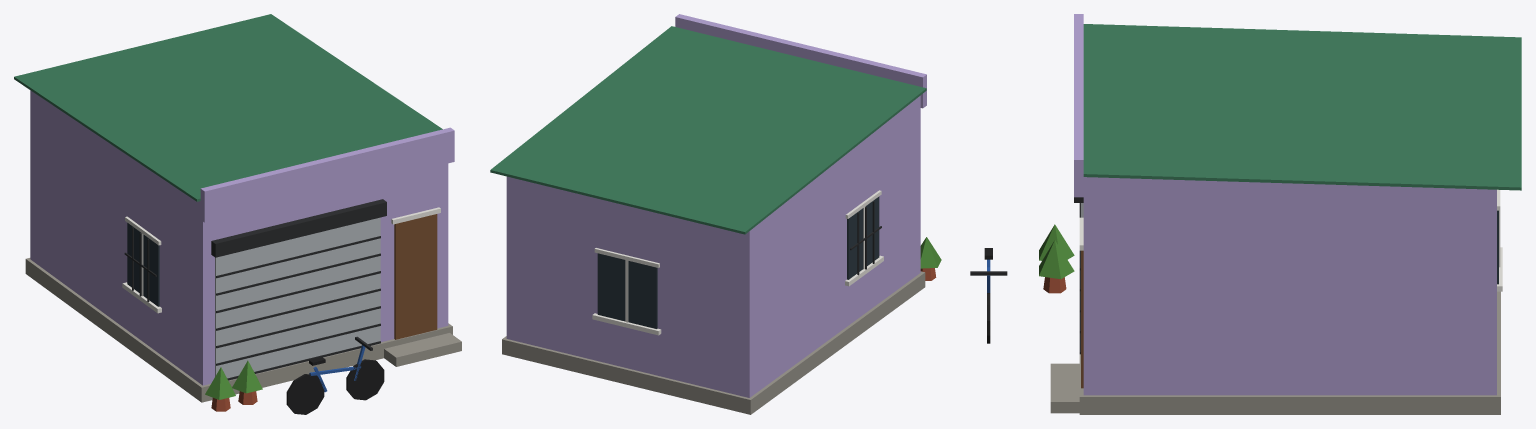
The model's file is BAY_F_Shop_R.glb.
3 renders of one model, left to right at view 1: azimuth 30°, elevation 25°; view 2: azimuth 150°, elevation 25°; view 3: azimuth 270°, elevation 25°, orthographic. The views are drawn at different scales.
Parts seen in each view (by area): view 1: BAY_F_Shop_R; view 2: BAY_F_Shop_R; view 3: BAY_F_Shop_R.
Boxes of the visible parts, x1,y1,x2,y2 form: BAY_F_Shop_R: [14, 14, 461, 414]; BAY_F_Shop_R: [490, 14, 941, 414]; BAY_F_Shop_R: [970, 14, 1521, 414].
Bounding box in the file's own units: 4.33 × 3.4 × 6.67.
1 material, 1 textured.
